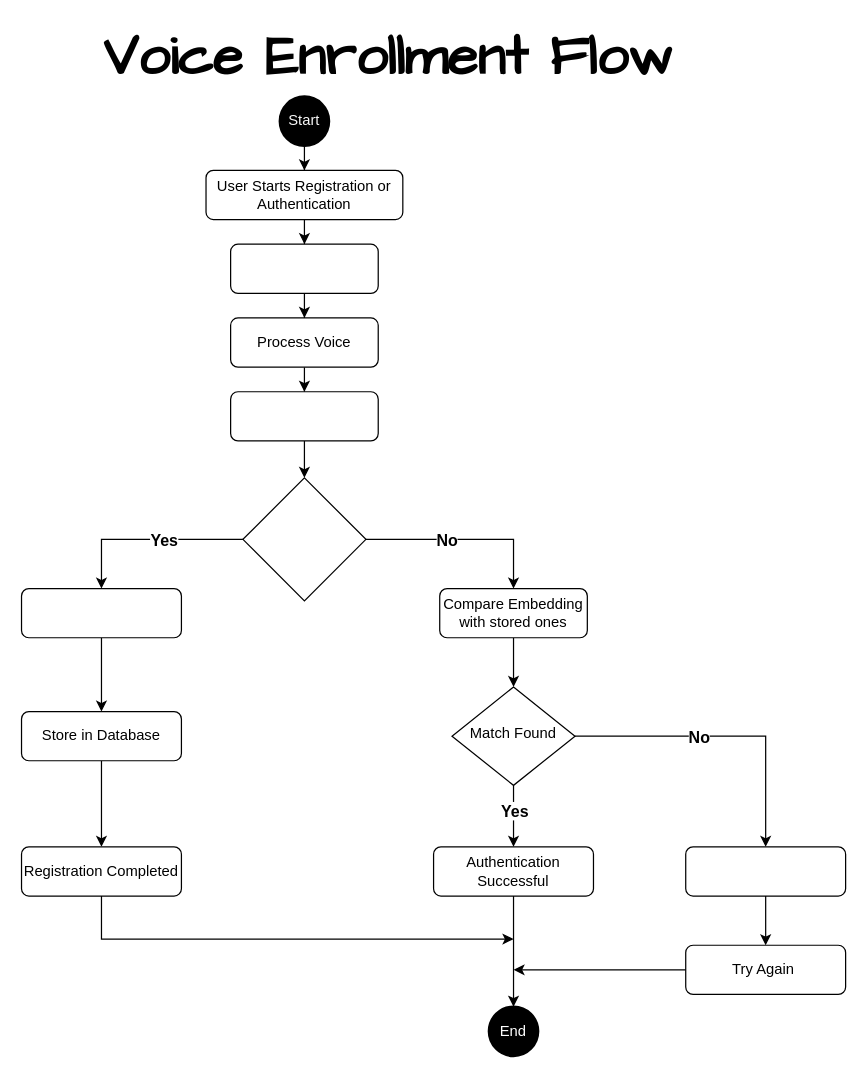
Some shapes in this 867 by 1077 pixel diagram are drawn without their labels. The shapes that lost their labels are listed below. From the top down, each one's centre as x and y in pixels, then its label:
[303,268]: Record Voice
[303,416]: Extract Voice Embeddings
[304,539]: Is this a first time user
[100,612]: Link Voice Embedding with user profile
[765,871]: Authentication Failed
